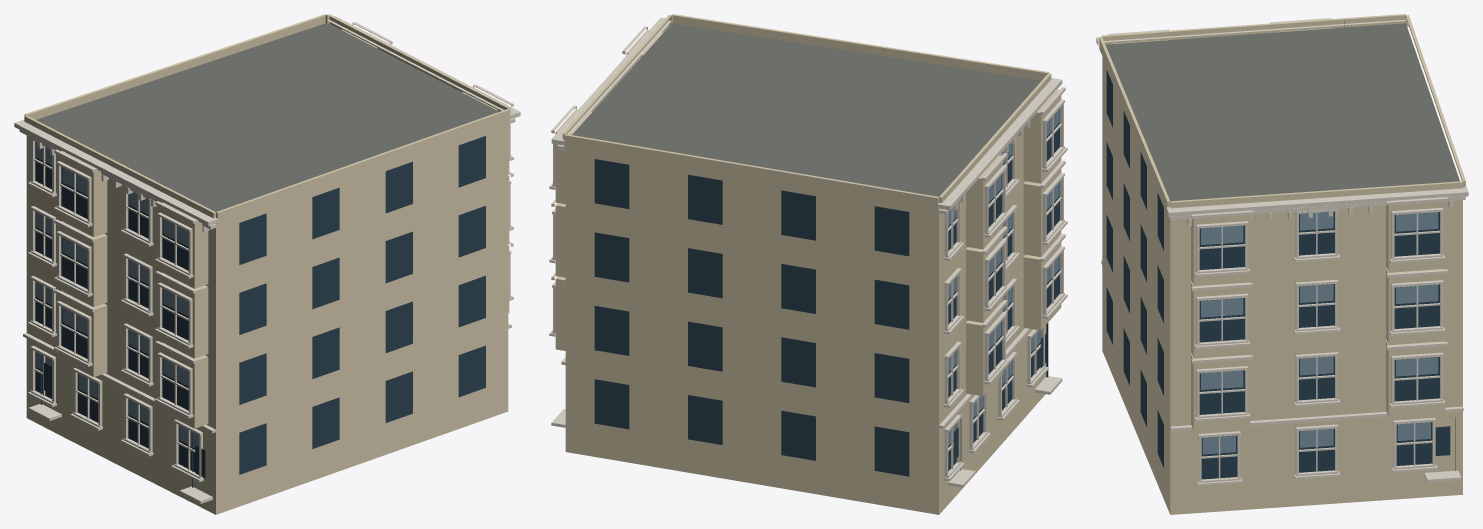
The picture shows the model from 3 angles, left to right: view 1: azimuth 30°, elevation 25°; view 2: azimuth 150°, elevation 25°; view 3: azimuth 270°, elevation 25°; orthographic projection. The views are drawn at different scales.
Parts seen in each view (by area): view 1: Footprint 0 / surface 2, Footprint 0 / surface 1, Inset glazing, Cornices and window frames, Facade bay volumes, Sky reflection panels; view 2: Footprint 0 / surface 2, Footprint 0 / surface 1, Inset glazing, Facade bay volumes, Cornices and window frames, Sky reflection panels; view 3: Footprint 0 / surface 2, Footprint 0 / surface 1, Cornices and window frames, Inset glazing, Facade bay volumes, Sky reflection panels.
Part boxes in pixels (x1,y1,x2,y2): Footprint 0 / surface 2: [26, 121, 508, 514]; Footprint 0 / surface 1: [36, 23, 498, 211]; Inset glazing: [35, 136, 485, 477]; Cornices and window frames: [14, 16, 520, 503]; Facade bay volumes: [24, 14, 510, 428]; Sky reflection panels: [36, 142, 198, 447]; Footprint 0 / surface 2: [565, 128, 1046, 514]; Footprint 0 / surface 1: [572, 23, 1041, 196]; Inset glazing: [594, 108, 1059, 476]; Facade bay volumes: [555, 14, 1061, 396]; Cornices and window frames: [549, 17, 1067, 487]; Sky reflection panels: [948, 109, 1059, 445]; Footprint 0 / surface 2: [1102, 57, 1462, 514]; Footprint 0 / surface 1: [1105, 23, 1459, 201]; Cornices and window frames: [1096, 18, 1468, 486]; Inset glazing: [1106, 70, 1450, 479]; Facade bay volumes: [1099, 14, 1465, 430]; Sky reflection panels: [1201, 211, 1438, 454].
Bounding box in the file's own units: 18.69 × 13.6 × 14.64.
